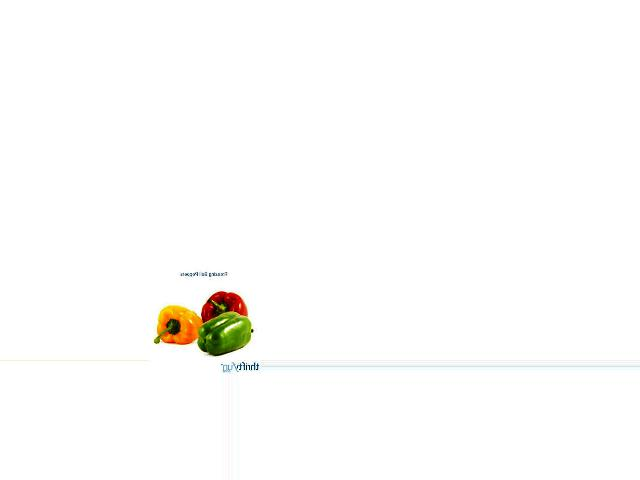bell_pepper: (193, 312, 254, 360)
